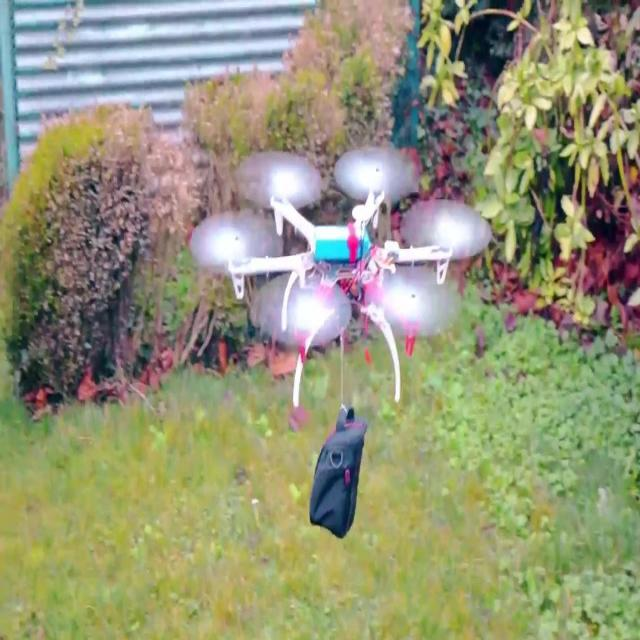UAV: (189, 146, 493, 409)
